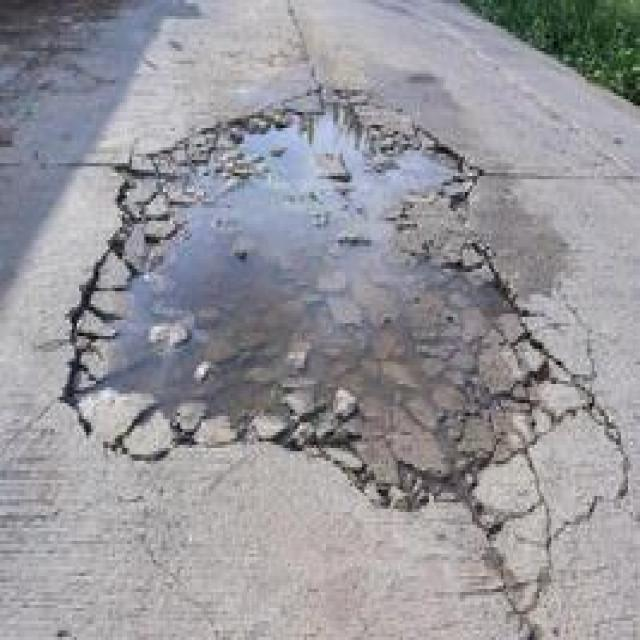road collapse: (28, 4, 630, 602)
